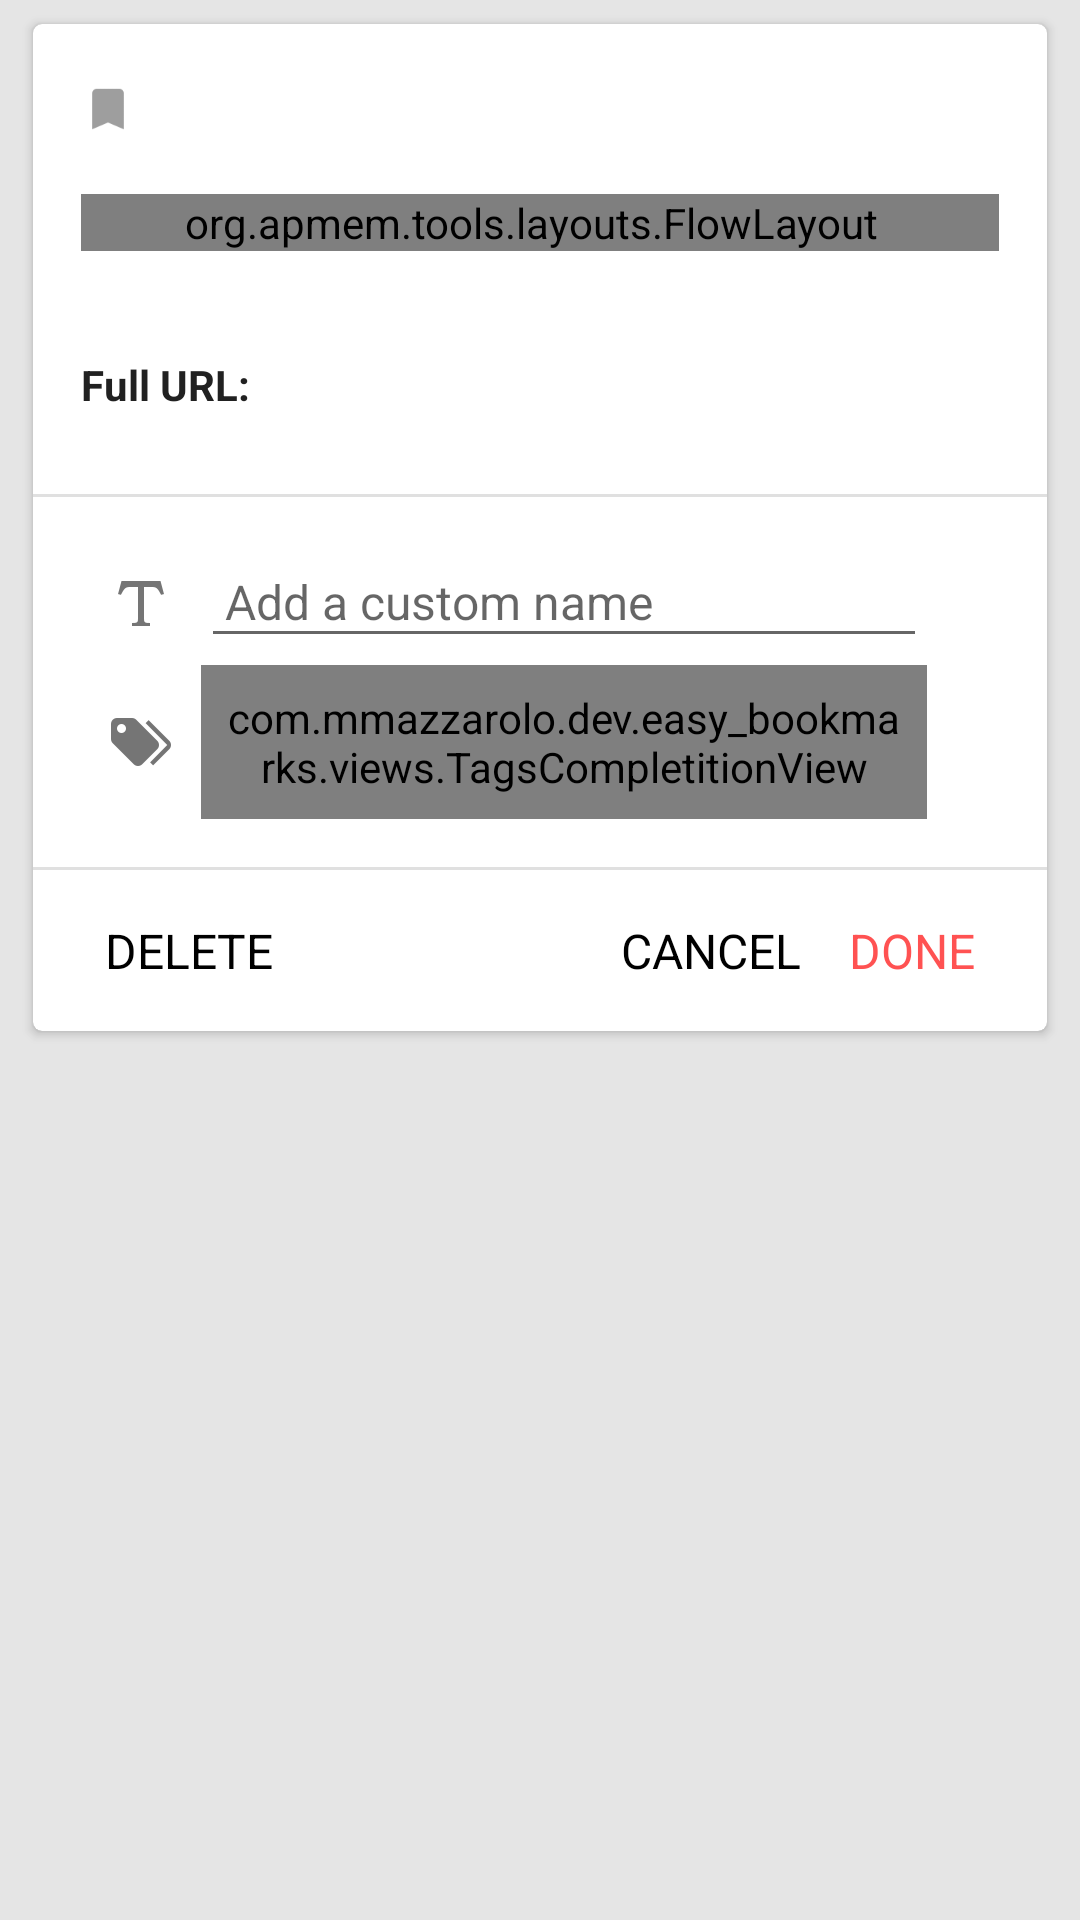

Screen size 1080px x 1920px. Icon name, then its box in pixels as (x1, y1, x2, y2):
format text: (118, 581, 164, 626)
